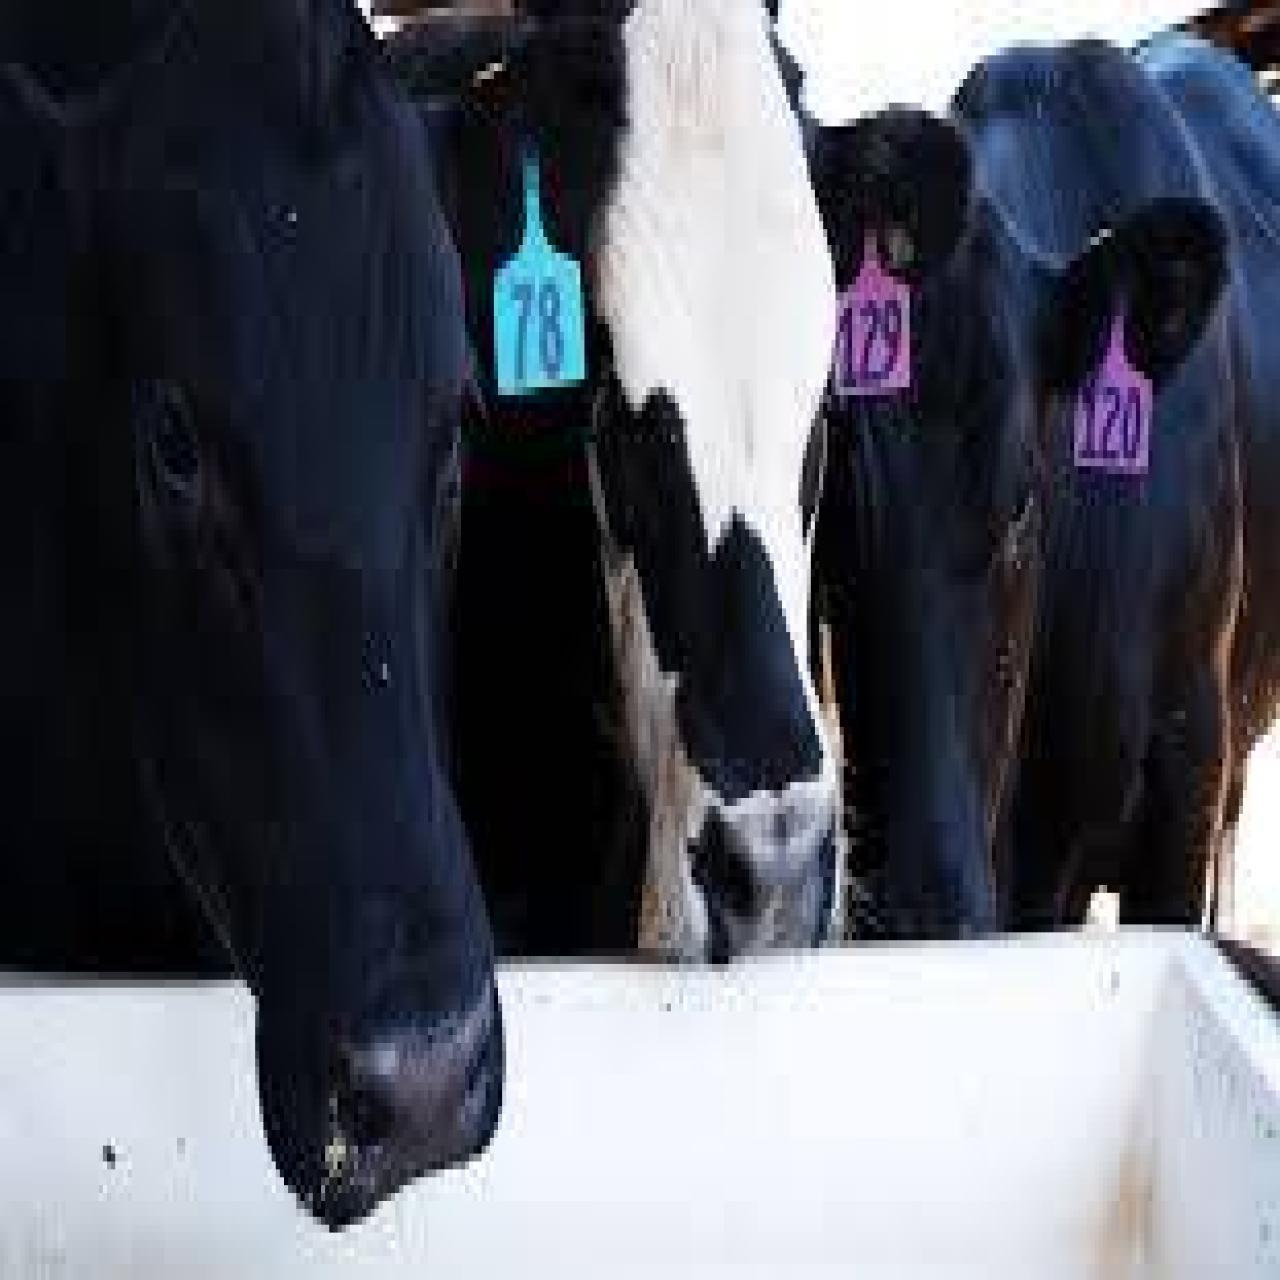cow: (0, 0, 506, 1240), (468, 0, 974, 972), (815, 0, 1280, 940)
